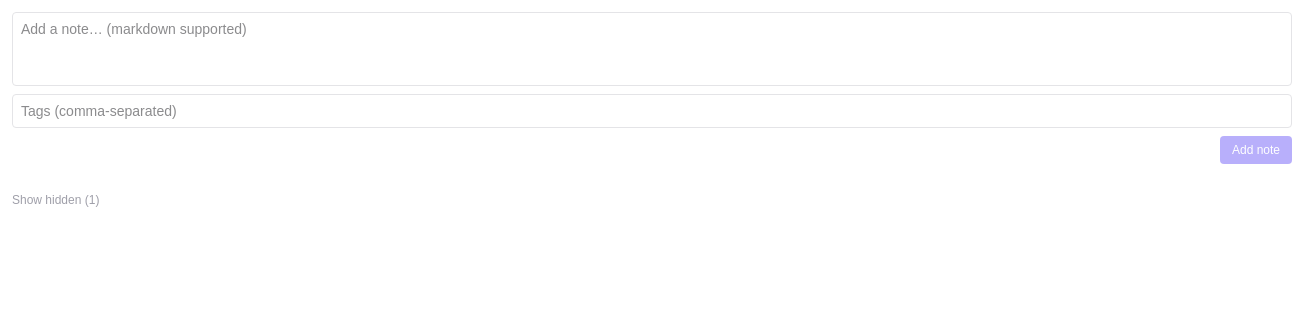
it: NoteList › reveals hidden notes when toggle is clicked
What coordinates should you click on to do the following:
click the button "Show hidden (1)"
I would click on:
 (56, 200)
Its box is [12,192,99,208].
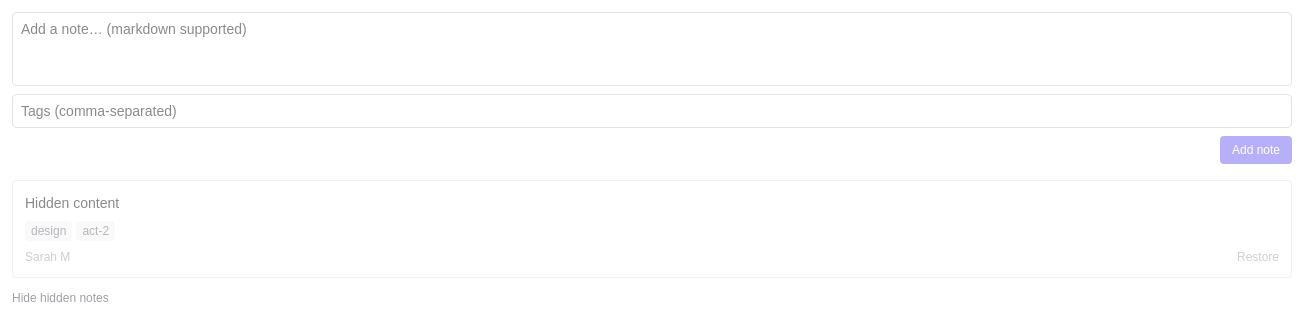
Now the text "Hidden content" is shown, box [25,195,119,211]
